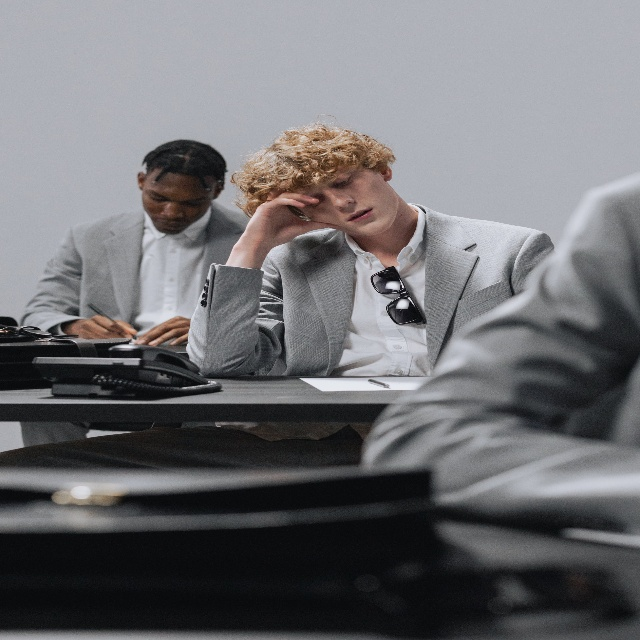Gafas: (371, 264, 425, 327)
Sin_guantes: (244, 189, 319, 244), (80, 310, 138, 349), (135, 309, 187, 346)
